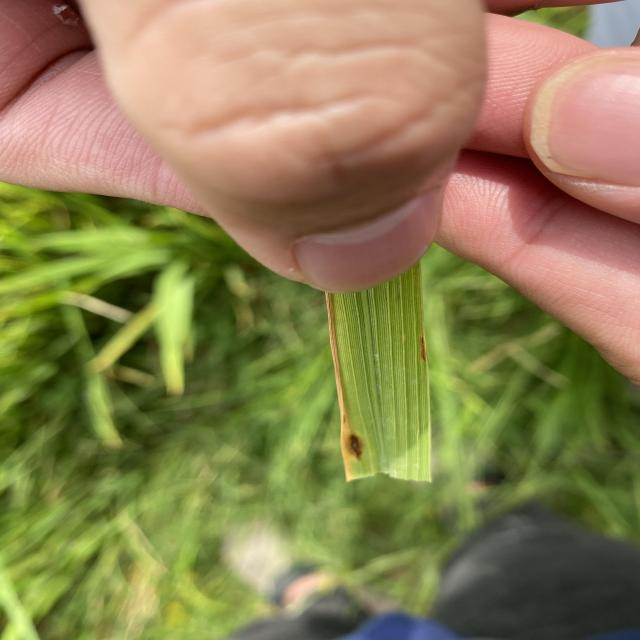Dom nau: (345, 431, 362, 462), (421, 336, 426, 363)
